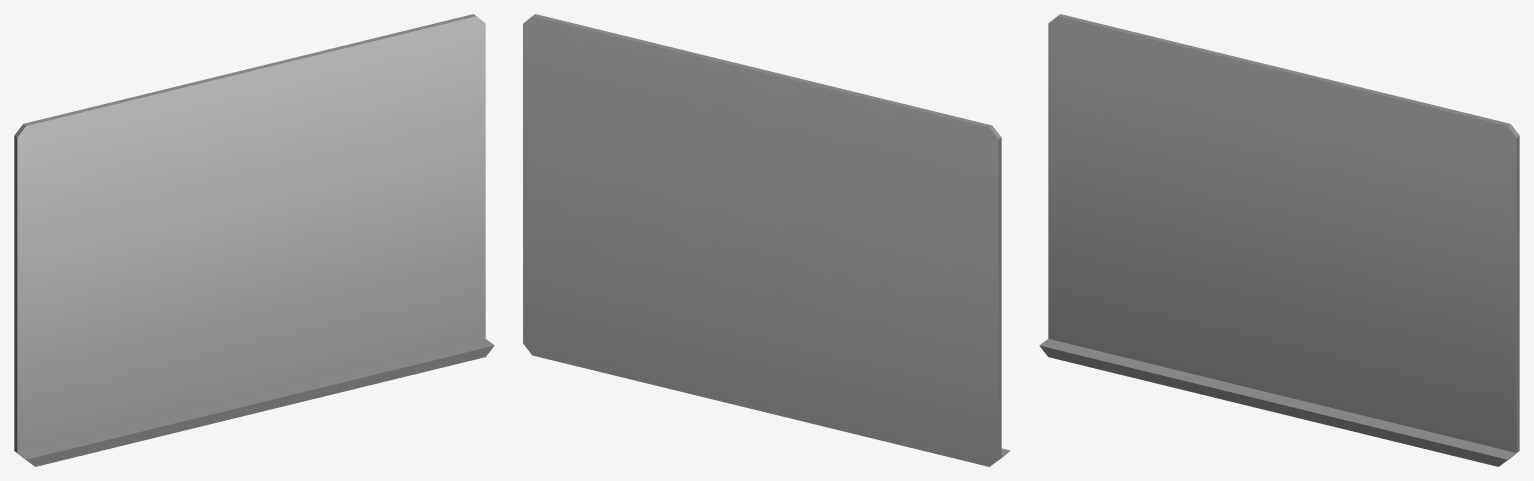
Rendered from Whiteboard.fbx.
3 renders of one model, left to right at view 1: azimuth 30°, elevation 25°; view 2: azimuth 150°, elevation 25°; view 3: azimuth 330°, elevation 25°, orthographic.
Visible parts, largest first — view 1: Whiteboard; view 2: Whiteboard; view 3: Whiteboard.
Part boxes in pixels (x1,y1,x2,y2): Whiteboard: (14,14,494,466); Whiteboard: (523,14,1010,466); Whiteboard: (1039,14,1519,466).
Bounding box in the file's own units: 226 × 154 × 10.14.
